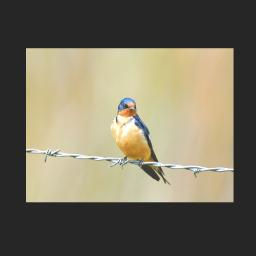Swallow: (110, 97, 171, 185)
